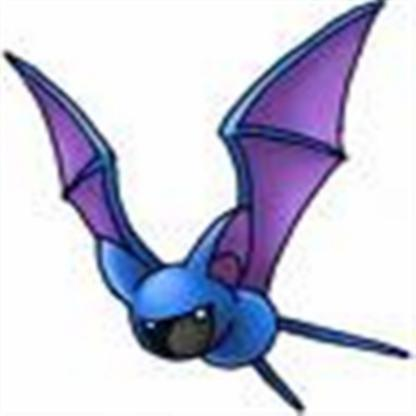Zubat: (6, 16, 416, 406)
